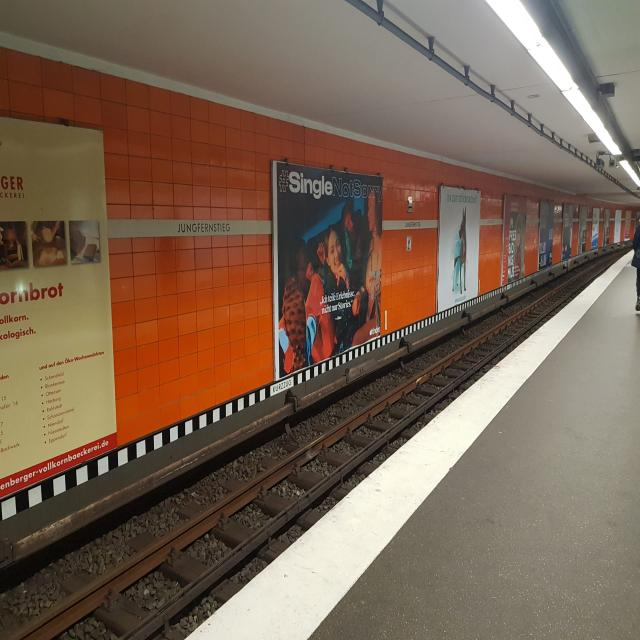Werbetafel frei: (266, 156, 387, 388), (434, 181, 486, 320), (497, 190, 531, 291), (533, 199, 558, 273), (559, 199, 574, 268), (589, 205, 603, 252), (576, 206, 588, 259)
